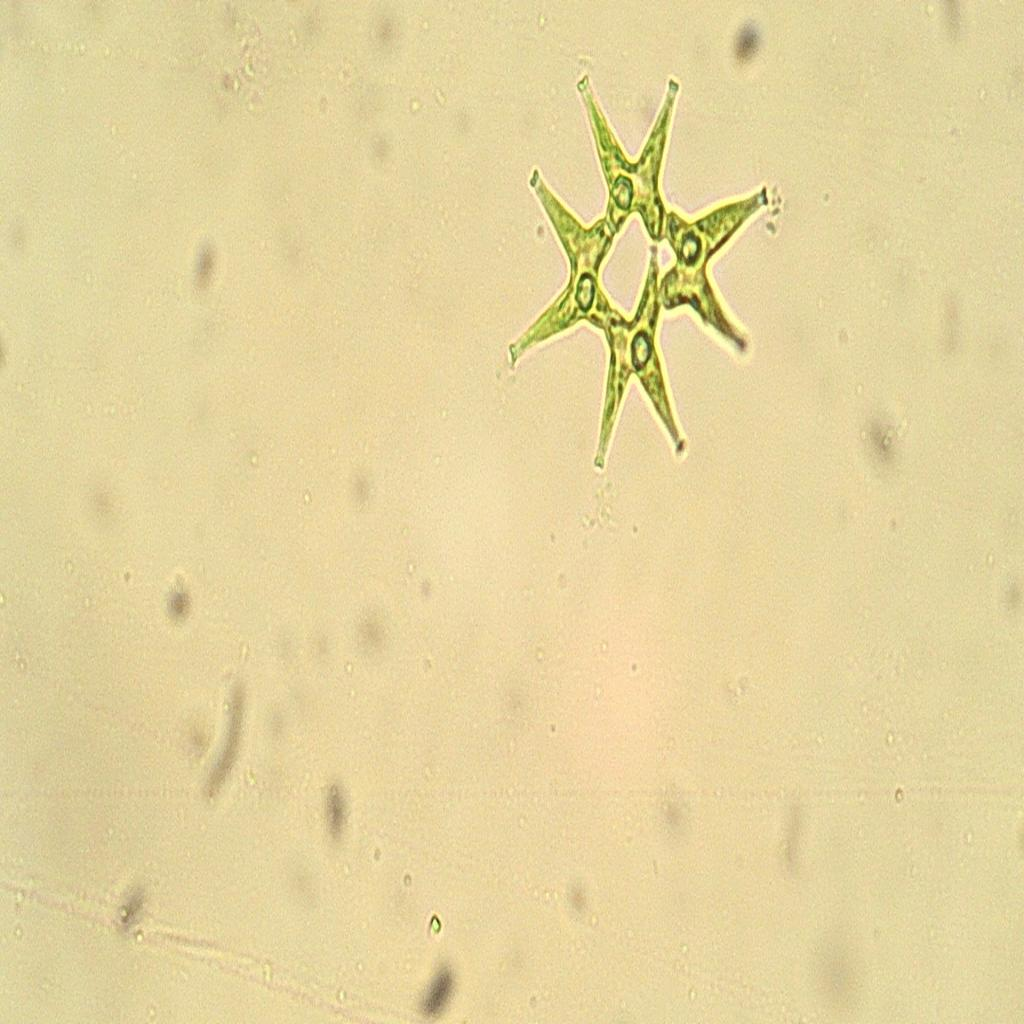Pediastrum_75FO: (495, 52, 785, 518)
